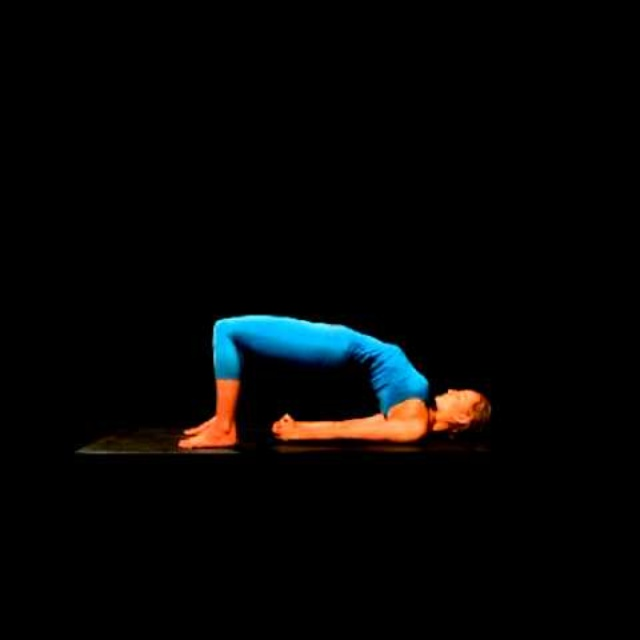Bridge_Pose: (162, 302, 497, 457)
